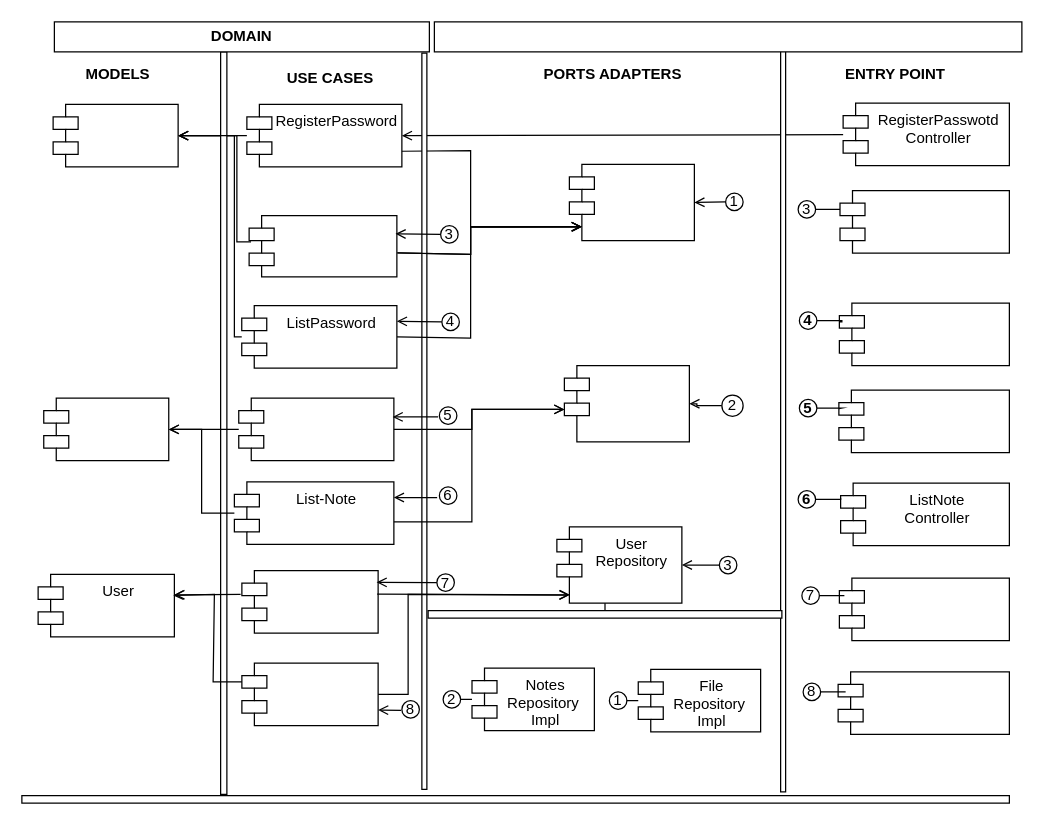
Image size: 1044x825. Some labels were removed from this diagram. Here are the shapes that lost their labels. From the top down, the centre of each, then its label:
the point at 727,36: INFRAESTRUCTURE
the point at 115,135: Secret Password
the point at 631,202: Secrets Repository
the point at 924,221: DownloadFile Controller
the point at 322,245: UpdatePassword
the point at 923,334: ListPassword Controller
the point at 626,403: Notes Repository
the point at 923,420: RegisterNote Controller
the point at 105,429: SecretNote
the point at 316,429: RegisterNote
the point at 309,601: Register User
the point at 923,609: RegisterUser Controller
the point at 309,694: Validate User
the point at 923,702: ValidateUser Controller
